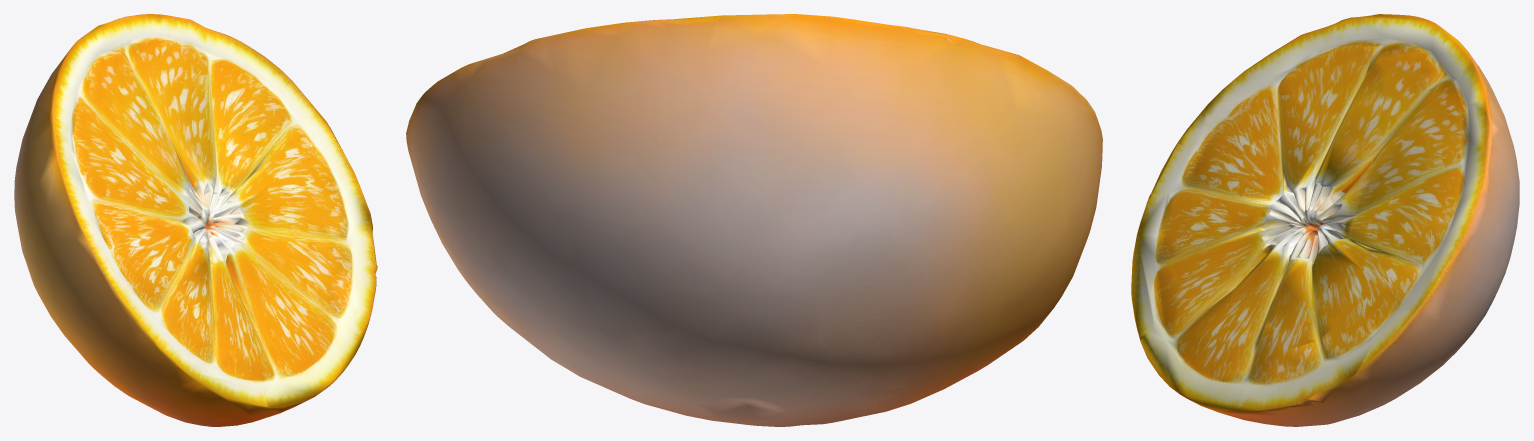
Rendered from f-orange-half.glb.
The picture shows the model from 3 angles, left to right: view 1: azimuth 30°, elevation 25°; view 2: azimuth 150°, elevation 25°; view 3: azimuth 270°, elevation 25°; orthographic projection. The views are drawn at different scales.
Visible parts, largest first — view 1: node_0; view 2: node_0; view 3: node_0.
Boxes of the visible parts, x1,y1,x2,y2 form: node_0: (14, 14, 377, 426); node_0: (406, 14, 1102, 426); node_0: (1131, 14, 1519, 426).
Bounding box in the file's own units: 1.08 × 0.9294 × 0.9609.
Materials: 1 (1 with a texture image).
